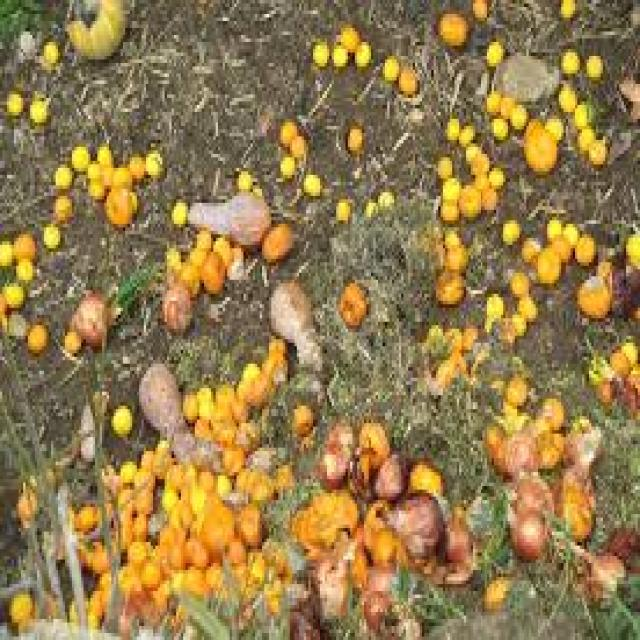organic waste: (137, 356, 216, 462), (137, 356, 195, 462), (584, 528, 638, 637), (302, 546, 359, 636), (267, 276, 322, 367), (374, 486, 441, 560), (183, 192, 269, 248), (556, 535, 624, 605), (111, 259, 165, 339), (290, 490, 359, 549), (547, 468, 596, 546), (462, 476, 506, 556), (436, 504, 478, 584), (62, 0, 125, 52), (67, 290, 123, 343), (503, 469, 552, 521), (318, 423, 354, 486), (503, 500, 543, 556), (200, 497, 234, 556), (283, 577, 315, 637), (492, 430, 536, 472), (564, 413, 598, 465), (371, 448, 406, 497), (573, 273, 610, 315), (366, 524, 408, 560), (236, 360, 272, 402), (346, 444, 374, 497), (528, 423, 566, 462), (239, 440, 280, 476), (522, 122, 554, 168), (107, 353, 139, 399), (357, 416, 387, 465), (426, 343, 464, 381), (478, 567, 510, 612), (255, 217, 292, 255), (336, 276, 364, 326), (160, 276, 188, 326), (238, 462, 274, 500), (608, 266, 636, 311), (383, 605, 422, 637), (344, 538, 366, 594), (364, 556, 399, 591), (197, 245, 225, 287), (100, 189, 137, 220), (408, 455, 438, 493), (232, 416, 260, 455), (432, 262, 462, 298), (436, 7, 466, 42), (348, 539, 371, 584), (482, 419, 506, 462), (271, 451, 292, 500), (498, 370, 526, 406), (148, 434, 172, 476), (123, 580, 151, 616), (494, 399, 526, 430), (176, 535, 206, 567), (5, 588, 32, 622), (207, 560, 234, 594), (16, 476, 35, 524), (107, 398, 132, 434), (360, 591, 388, 623), (536, 388, 561, 423), (260, 535, 285, 570), (232, 504, 260, 535), (188, 483, 215, 514), (86, 535, 111, 567), (181, 563, 206, 595), (258, 350, 286, 378), (114, 500, 130, 549), (536, 245, 558, 280), (584, 353, 608, 385), (290, 398, 311, 434), (84, 588, 102, 630), (614, 371, 638, 402), (162, 241, 181, 280), (457, 182, 480, 213), (174, 259, 197, 290), (72, 497, 95, 528), (26, 87, 48, 119), (24, 318, 46, 350), (512, 290, 536, 318), (397, 59, 418, 91), (134, 556, 158, 584), (246, 542, 262, 584), (218, 535, 241, 563), (158, 479, 181, 507), (438, 245, 468, 266), (260, 574, 278, 608), (482, 287, 498, 325), (482, 35, 501, 66), (422, 322, 441, 353), (438, 172, 459, 200), (232, 161, 253, 189), (211, 412, 232, 440), (67, 591, 88, 619), (179, 388, 197, 420), (14, 227, 32, 259), (116, 451, 134, 483), (436, 199, 459, 224), (128, 514, 148, 542), (559, 42, 577, 73), (70, 140, 88, 171), (72, 532, 90, 563), (190, 413, 213, 437), (230, 465, 252, 490), (542, 210, 564, 234), (225, 241, 241, 273), (0, 276, 23, 298), (125, 538, 148, 560), (158, 524, 181, 546), (557, 80, 575, 108), (573, 231, 591, 259), (501, 217, 519, 245), (144, 147, 162, 175), (132, 462, 153, 486), (174, 500, 192, 528), (608, 346, 628, 371), (352, 35, 368, 66), (211, 472, 234, 493), (511, 262, 526, 294), (114, 560, 134, 584), (496, 94, 515, 119), (373, 185, 392, 210), (308, 38, 327, 63), (95, 136, 114, 161), (60, 325, 79, 350), (160, 570, 179, 595), (299, 172, 322, 192), (276, 115, 294, 140), (179, 458, 197, 483), (584, 49, 600, 77), (589, 133, 605, 161), (598, 374, 614, 402), (508, 98, 524, 126), (338, 21, 354, 49), (2, 84, 18, 112), (54, 157, 70, 185), (109, 161, 130, 182), (346, 119, 360, 150), (478, 182, 496, 206), (459, 322, 475, 349), (195, 462, 213, 486), (40, 217, 60, 238), (334, 192, 350, 217), (54, 192, 70, 217), (128, 490, 148, 510), (468, 0, 487, 21), (482, 88, 501, 109), (88, 175, 107, 196), (494, 314, 512, 336), (570, 98, 584, 126), (619, 332, 633, 360), (443, 112, 457, 140), (214, 231, 228, 259), (575, 126, 591, 150), (490, 112, 506, 136), (457, 119, 473, 143), (468, 147, 484, 171), (360, 196, 376, 220), (130, 511, 146, 535), (443, 325, 461, 346), (276, 154, 294, 175), (183, 241, 204, 259), (41, 38, 56, 63), (520, 238, 542, 255), (626, 231, 638, 262), (153, 581, 165, 612), (381, 49, 396, 73), (227, 399, 248, 416), (554, 234, 568, 259), (510, 311, 524, 336), (128, 150, 142, 175), (213, 381, 232, 399), (596, 252, 612, 273), (562, 217, 578, 238), (438, 228, 462, 242), (288, 133, 304, 154), (14, 259, 30, 280), (84, 157, 102, 175), (436, 150, 447, 178), (9, 311, 21, 336), (510, 353, 524, 374), (329, 42, 343, 63), (485, 164, 501, 182), (195, 227, 211, 245), (0, 238, 12, 262), (464, 360, 475, 385), (172, 199, 183, 224), (545, 112, 561, 129), (95, 567, 111, 584), (461, 140, 480, 154), (468, 172, 487, 186), (267, 332, 285, 346), (194, 381, 208, 399), (176, 479, 190, 497), (162, 511, 176, 528), (522, 116, 538, 130), (186, 518, 202, 532), (146, 538, 162, 552), (197, 398, 211, 412), (0, 290, 7, 315), (626, 360, 638, 374), (102, 164, 111, 182), (556, 0, 572, 10), (489, 374, 499, 388), (250, 182, 260, 196), (0, 312, 7, 326), (635, 304, 638, 315)
